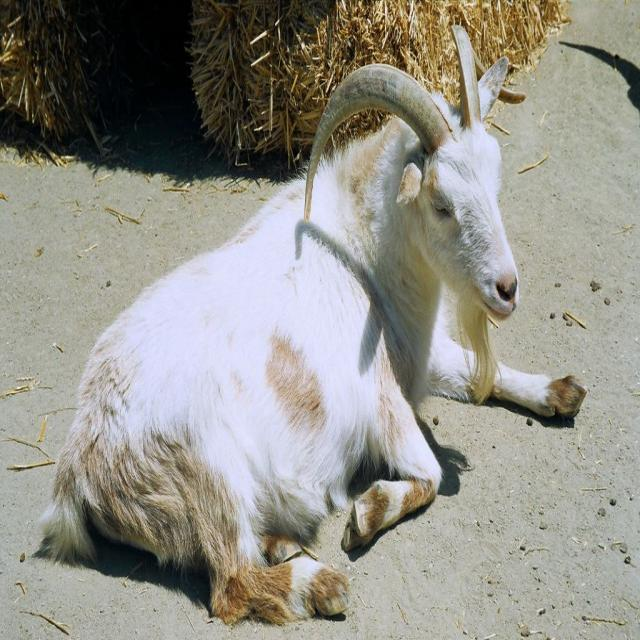Goat: (39, 24, 588, 626)
